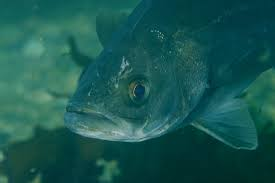suzuki: (64, 24, 209, 149)
